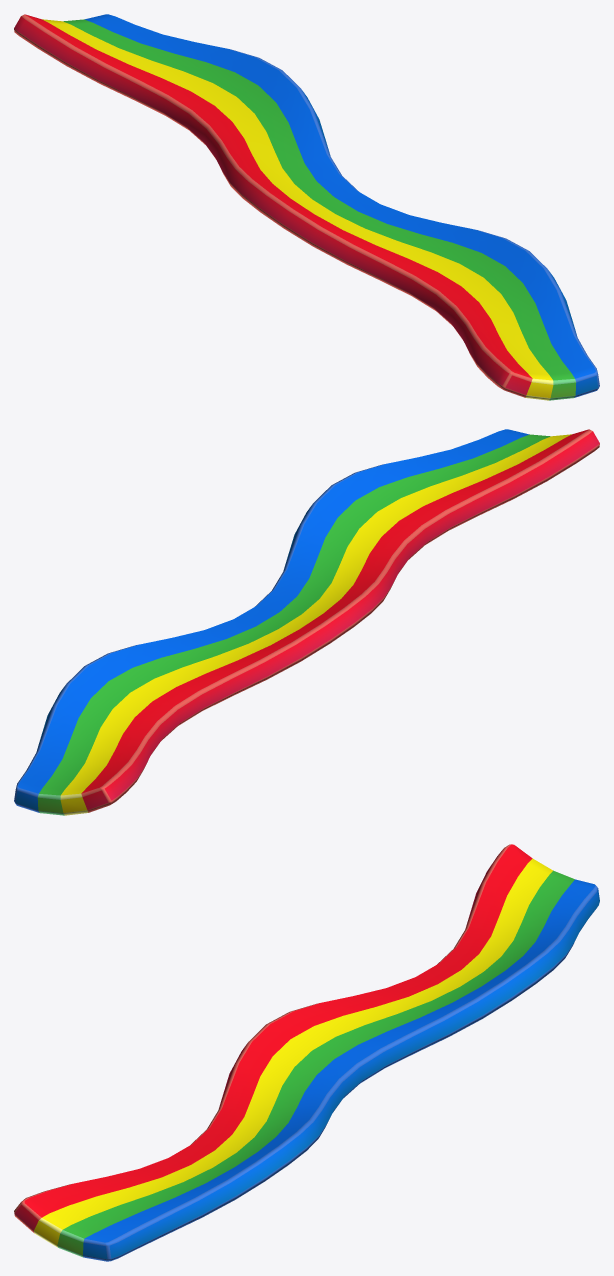
Rendered from marmalade_002.glb.
3 renders of one model, top to bottom at view 1: azimuth 30°, elevation 25°; view 2: azimuth 150°, elevation 25°; view 3: azimuth 330°, elevation 25°, orthographic.
Visible parts, largest first — view 1: marmalade_002; view 2: marmalade_002; view 3: marmalade_002.
Part boxes in pixels (x1,y1,x2,y2): marmalade_002: (14, 14, 599, 400); marmalade_002: (14, 429, 599, 815); marmalade_002: (14, 844, 599, 1261).
Bounding box in the file's own units: 4.03 × 1.05 × 22.16.
Materials: 1 (1 with a texture image).
